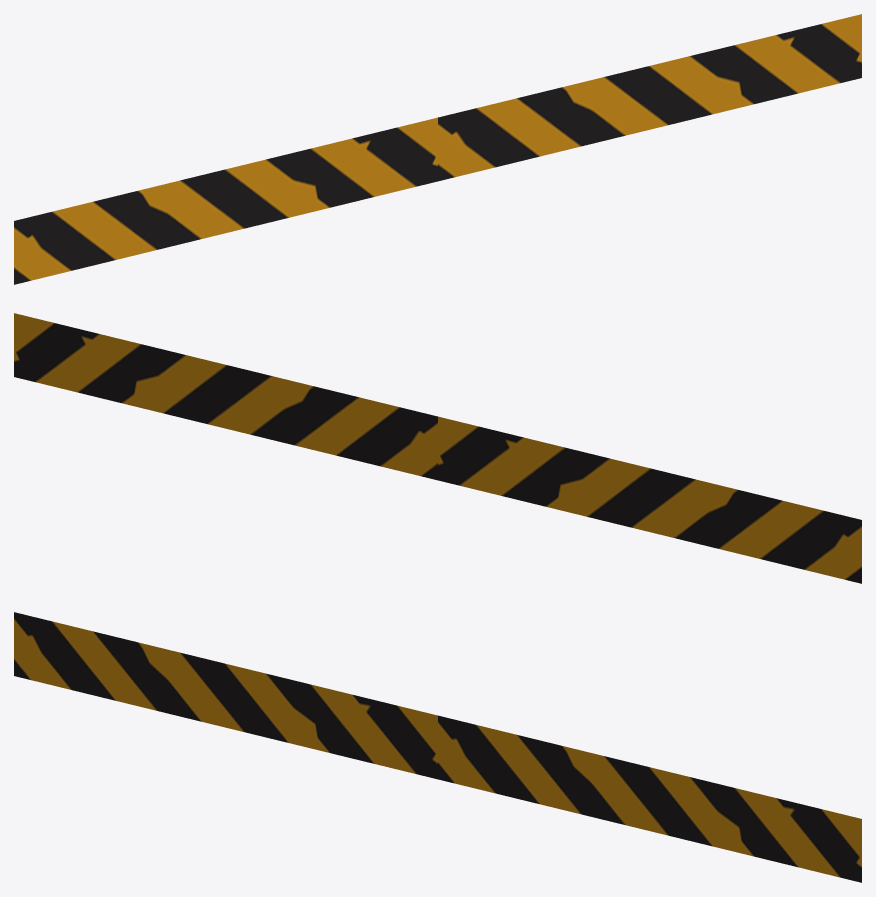
File: SM_warning_02.fbx
3 renders of one model, top to bottom at view 1: azimuth 30°, elevation 25°; view 2: azimuth 150°, elevation 25°; view 3: azimuth 330°, elevation 25°, orthographic.
Visible parts, largest first — view 1: SM_warning_02; view 2: SM_warning_02; view 3: SM_warning_02.
Part boxes in pixels (bbox=[...]): SM_warning_02: bbox=[14, 14, 861, 284]; SM_warning_02: bbox=[14, 313, 861, 583]; SM_warning_02: bbox=[14, 612, 861, 882].
Bounding box in the file's own units: 600 × 43.22 × 0.
1 material, 1 textured.
